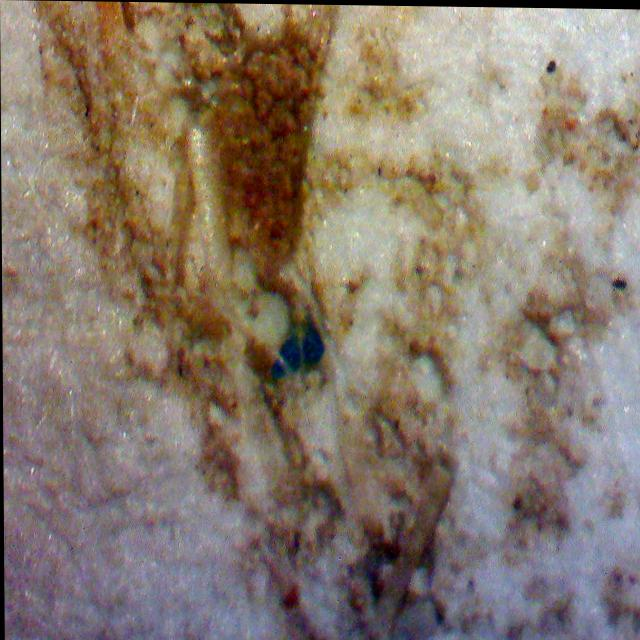microplastic: (271, 324, 327, 378)
